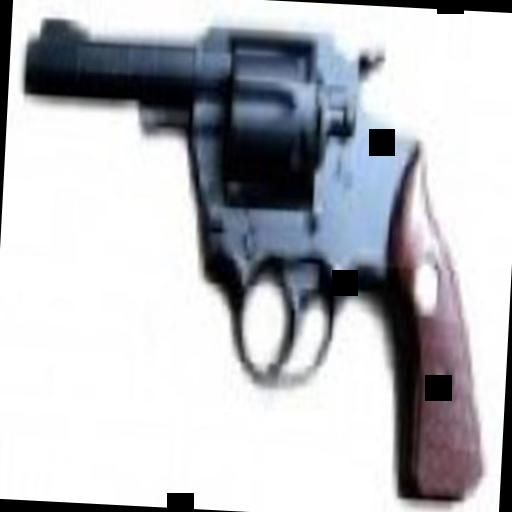Handgun: (3, 12, 507, 505)
